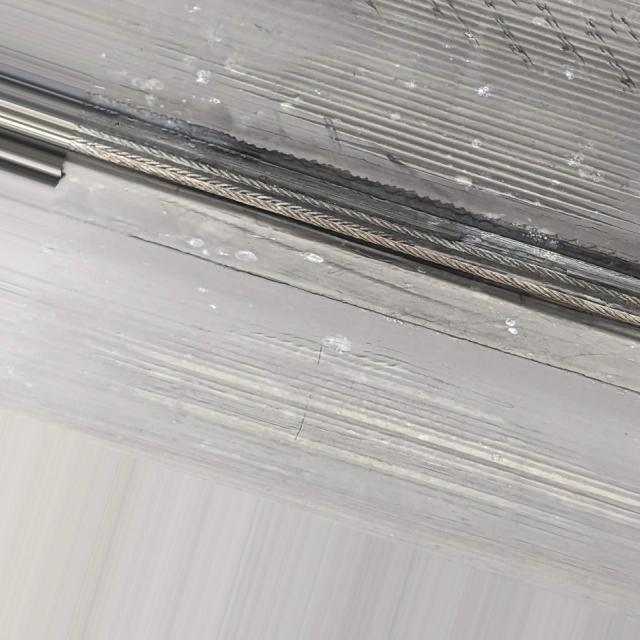Tear: (366, 0, 640, 92)
impact damage: (62, 102, 640, 337), (229, 20, 640, 237)
